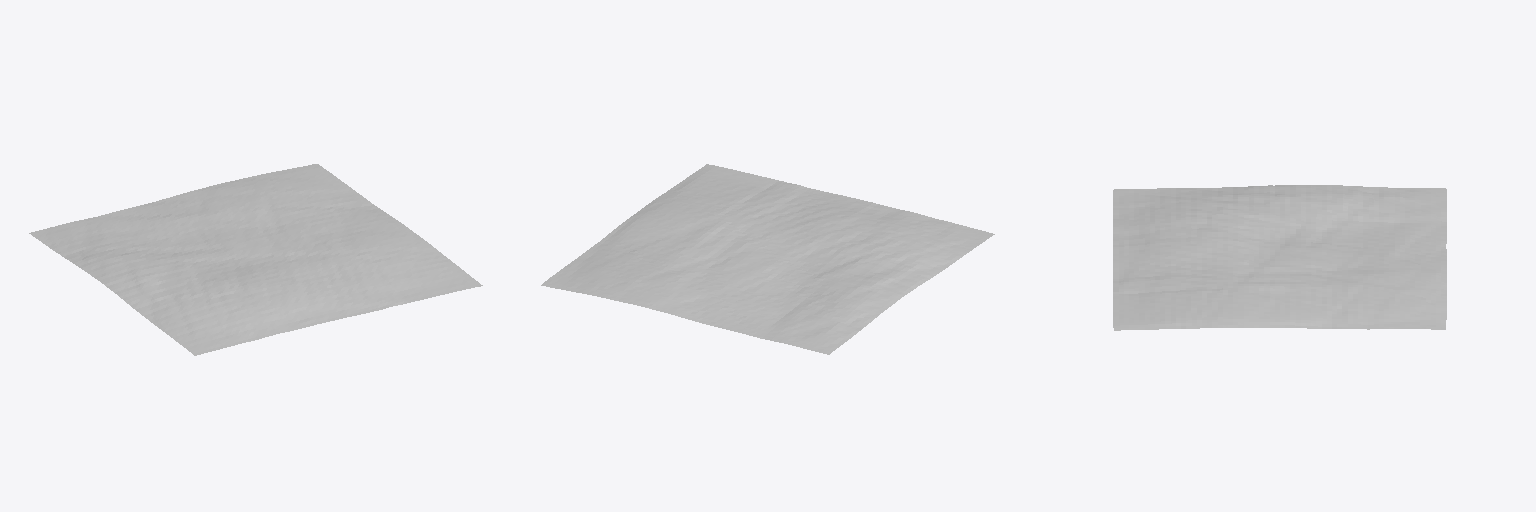
The model's file is CaveLand.obj.
The picture shows the model from 3 angles: view 1: azimuth 30°, elevation 25°; view 2: azimuth 150°, elevation 25°; view 3: azimuth 270°, elevation 25°; orthographic projection.
Visible parts, largest first — view 1: Plane; view 2: Plane; view 3: Plane.
Part boxes in pixels (x1,y1,x2,y2): Plane: (29, 164, 482, 355); Plane: (541, 164, 994, 354); Plane: (1113, 185, 1446, 330).
Bounding box in the file's own units: 32.01 × 0.8957 × 32.01.